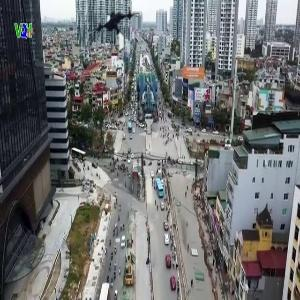drone: (87, 3, 144, 60)
